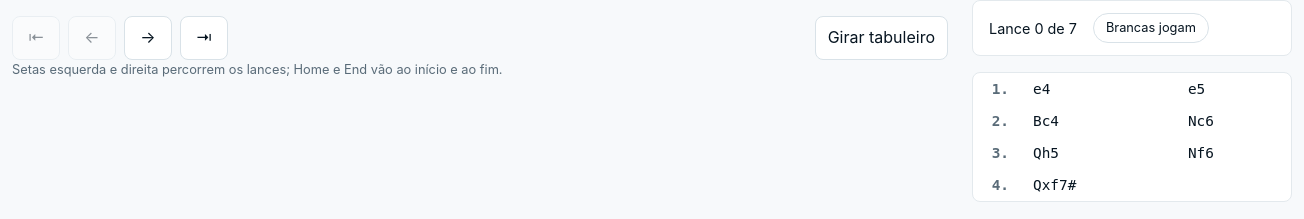
it: GameViewer › pula direto para o lance escolhido na lista textual
Click the button "Qh5" at [1098, 154], box [1021,138,1176,170]
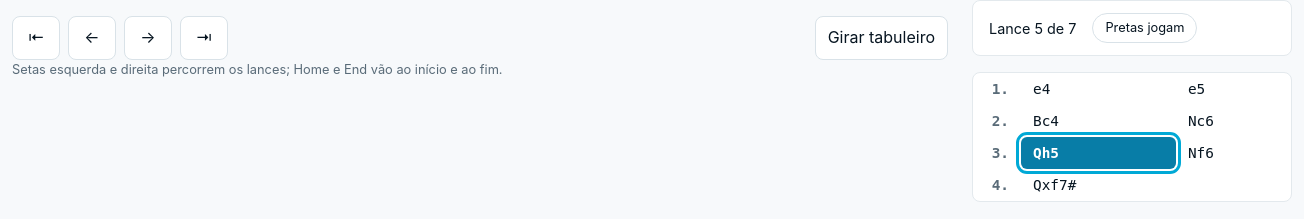
Expected: the text "Lance 5 de 7" is shown, [989,17,1076,40]
